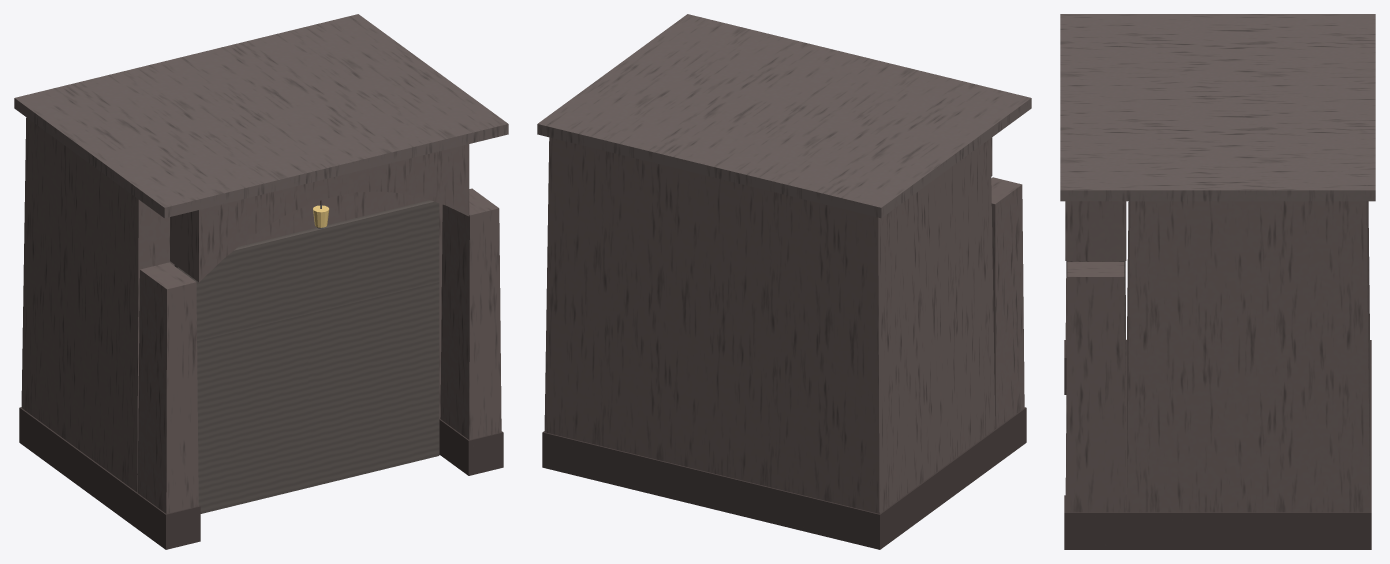
File: SM_Souq_Stall_W4D30H38.fbx
3 renders of one model, left to right at view 1: azimuth 30°, elevation 25°; view 2: azimuth 150°, elevation 25°; view 3: azimuth 270°, elevation 25°, orthographic. The views are drawn at different scales.
Visible parts, largest first — view 1: SM_Souq_Stall_W4D30H38; view 2: SM_Souq_Stall_W4D30H38; view 3: SM_Souq_Stall_W4D30H38.
Part boxes in pixels (x1=…): SM_Souq_Stall_W4D30H38: x1=14, y1=14, x2=508, y2=549; SM_Souq_Stall_W4D30H38: x1=537, y1=14, x2=1031, y2=549; SM_Souq_Stall_W4D30H38: x1=1060, y1=14, x2=1375, y2=549.
Bounding box in the file's own units: 410 × 392 × 310.
6 materials, 6 textured.
